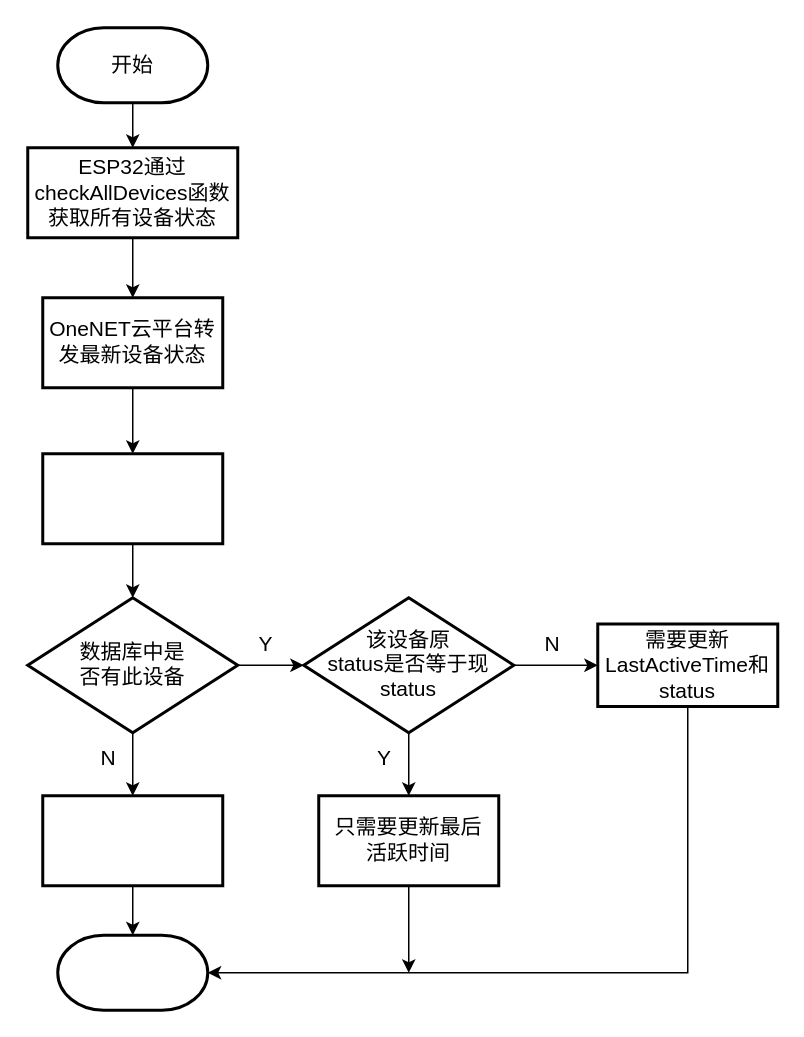
Image size: 804x1037. Some labels were removed from this diagram. The shapes that lost their labels are listed below. From the top down, each one's centre as x and y in pixels, then its label:
At point (132, 498): "后端遍历设备状态".
At point (132, 840): "添加设备， 同时置 status=1".
At point (132, 972): "结束".
